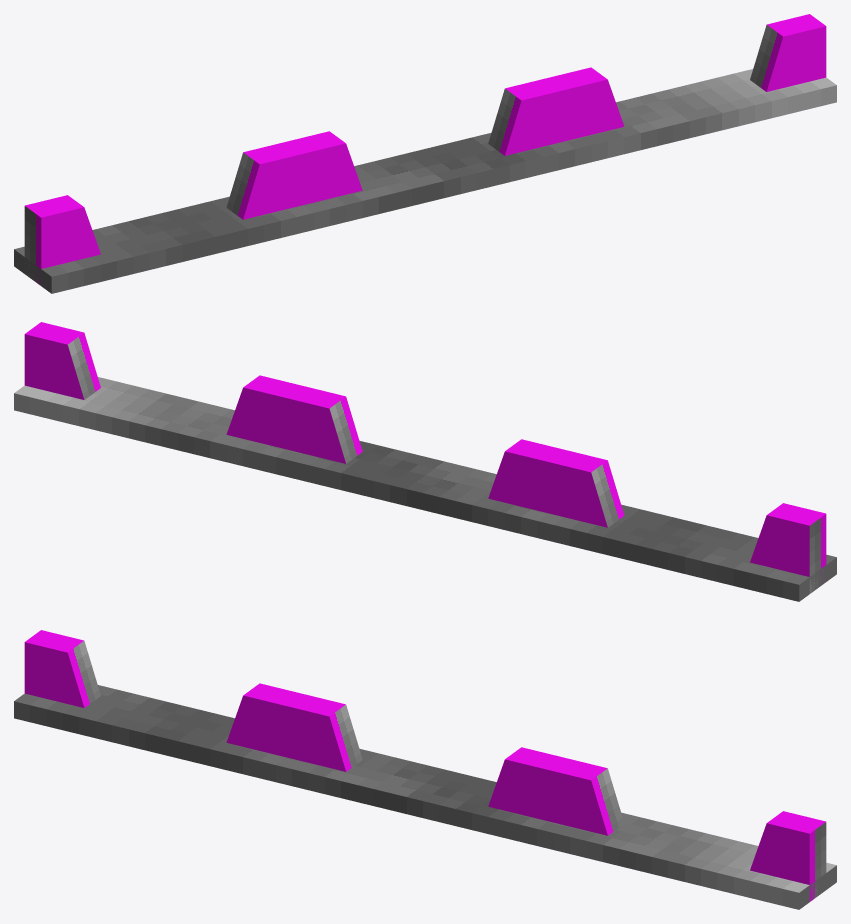
Rendered from hangar_door_down_opened.obj.
3 views of the same model, one above another, from view 1: azimuth 30°, elevation 25°; view 2: azimuth 150°, elevation 25°; view 3: azimuth 330°, elevation 25° (orthographic).
Visible parts, largest first — view 1: Box014, Box012, Box013, Box011, Box016; view 2: Box014, Box012, Box013, Box011, Box016; view 3: Box014, Box013, Box012, Box016, Box011.
Boxes of the visible parts, x1,y1,x2,y2 form: Box014: [14, 69, 836, 293]; Box012: [488, 67, 624, 155]; Box013: [226, 131, 362, 219]; Box011: [750, 14, 826, 91]; Box016: [24, 195, 100, 285]; Box014: [14, 377, 836, 601]; Box012: [226, 375, 362, 463]; Box013: [488, 439, 624, 527]; Box011: [24, 322, 100, 399]; Box016: [750, 503, 826, 593]; Box014: [14, 685, 836, 909]; Box013: [226, 683, 362, 771]; Box012: [488, 747, 624, 835]; Box016: [24, 630, 100, 707]; Box011: [750, 811, 826, 901].
Bounding box in the file's own units: 3 × 0.25 × 0.25.
